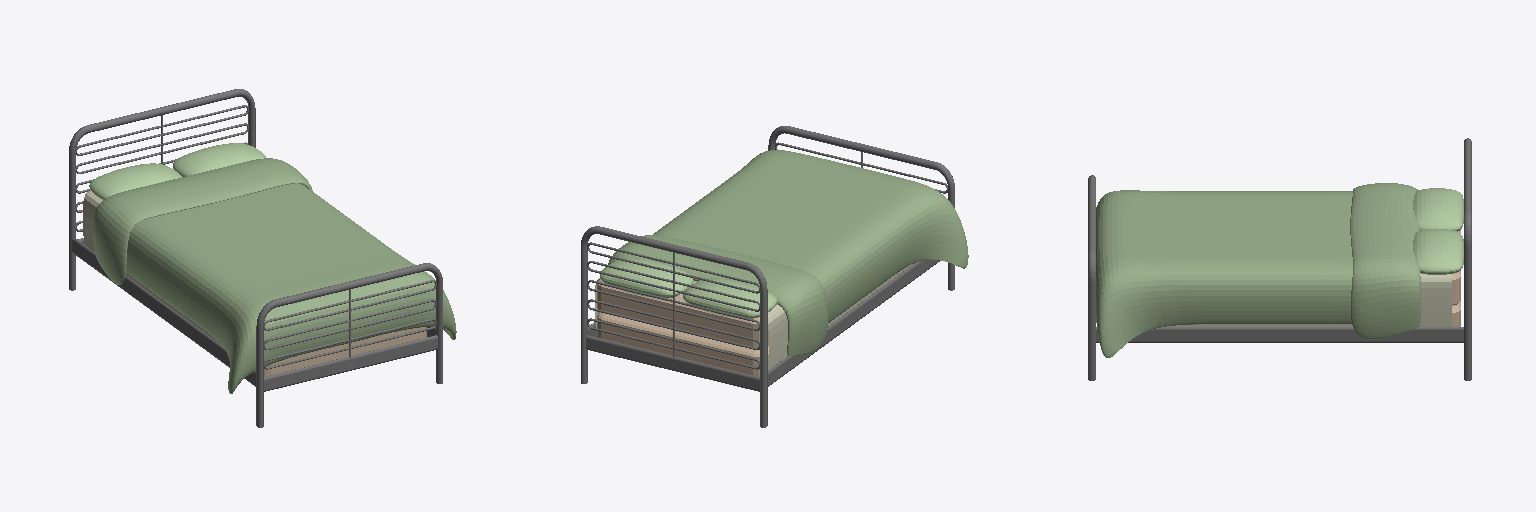
File: bedroom_bed.obj
The picture shows the model from 3 angles: view 1: azimuth 30°, elevation 25°; view 2: azimuth 150°, elevation 25°; view 3: azimuth 270°, elevation 25°; orthographic projection.
Visible parts, largest first — view 1: Plane.003_Plane.004, Circle, Cube.009_Cube.010, Cube.010_Cube.011, Cube.008_Cube.006, Plane.004_Plane.005; view 2: Plane.003_Plane.004, Circle, Cube.008_Cube.006, Cube.007_Cube.004, Cube.010_Cube.011, Cube.009_Cube.010, Plane.004_Plane.005; view 3: Plane.003_Plane.004, Circle, Plane.004_Plane.005, Cube.010_Cube.011, Cube.009_Cube.010.
Part boxes in pixels (bbox=[...]): Plane.003_Plane.004: bbox=[93, 158, 456, 393]; Circle: bbox=[69, 89, 442, 427]; Cube.009_Cube.010: bbox=[89, 163, 181, 199]; Cube.010_Cube.011: bbox=[173, 143, 265, 176]; Cube.008_Cube.006: bbox=[264, 327, 426, 376]; Plane.004_Plane.005: bbox=[83, 191, 220, 344]; Plane.003_Plane.004: bbox=[608, 150, 968, 355]; Circle: bbox=[581, 126, 954, 427]; Cube.008_Cube.006: bbox=[597, 264, 912, 376]; Cube.007_Cube.004: bbox=[597, 279, 768, 347]; Cube.010_Cube.011: bbox=[600, 258, 693, 297]; Cube.009_Cube.010: bbox=[683, 278, 776, 318]; Plane.004_Plane.005: bbox=[595, 267, 906, 369]; Plane.003_Plane.004: bbox=[1096, 183, 1420, 357]; Circle: bbox=[1088, 138, 1471, 380]; Plane.004_Plane.005: bbox=[1174, 273, 1451, 326]; Cube.010_Cube.011: bbox=[1413, 229, 1463, 274]; Cube.009_Cube.010: bbox=[1413, 188, 1463, 231].
Size of the model in its own units: 141 by 95.46 by 208.